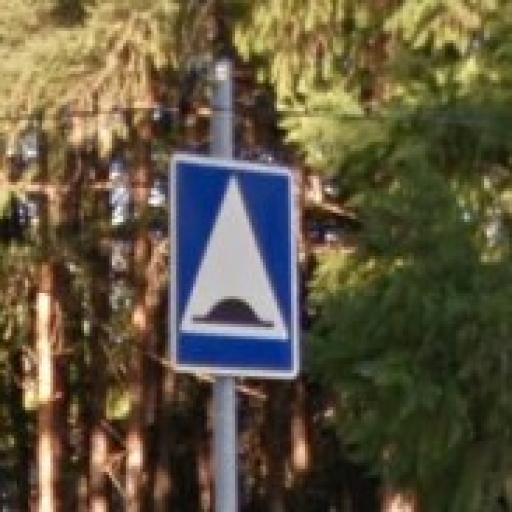traffic_sign: (169, 156, 300, 381)
